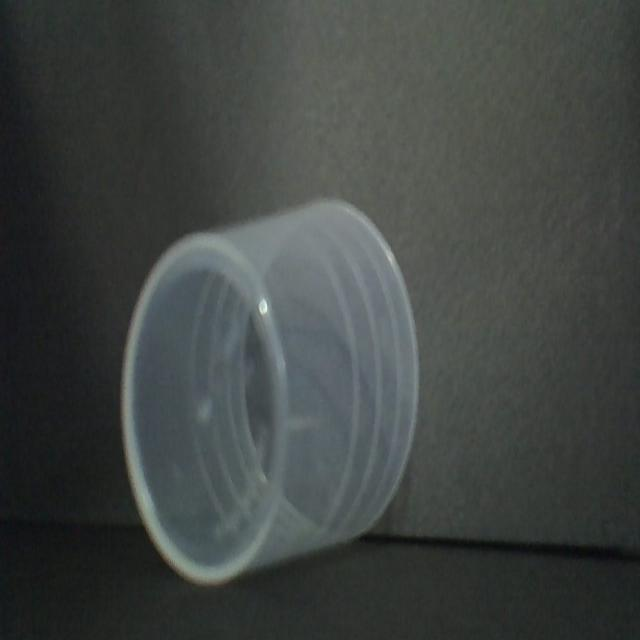cup: (117, 192, 422, 595)
